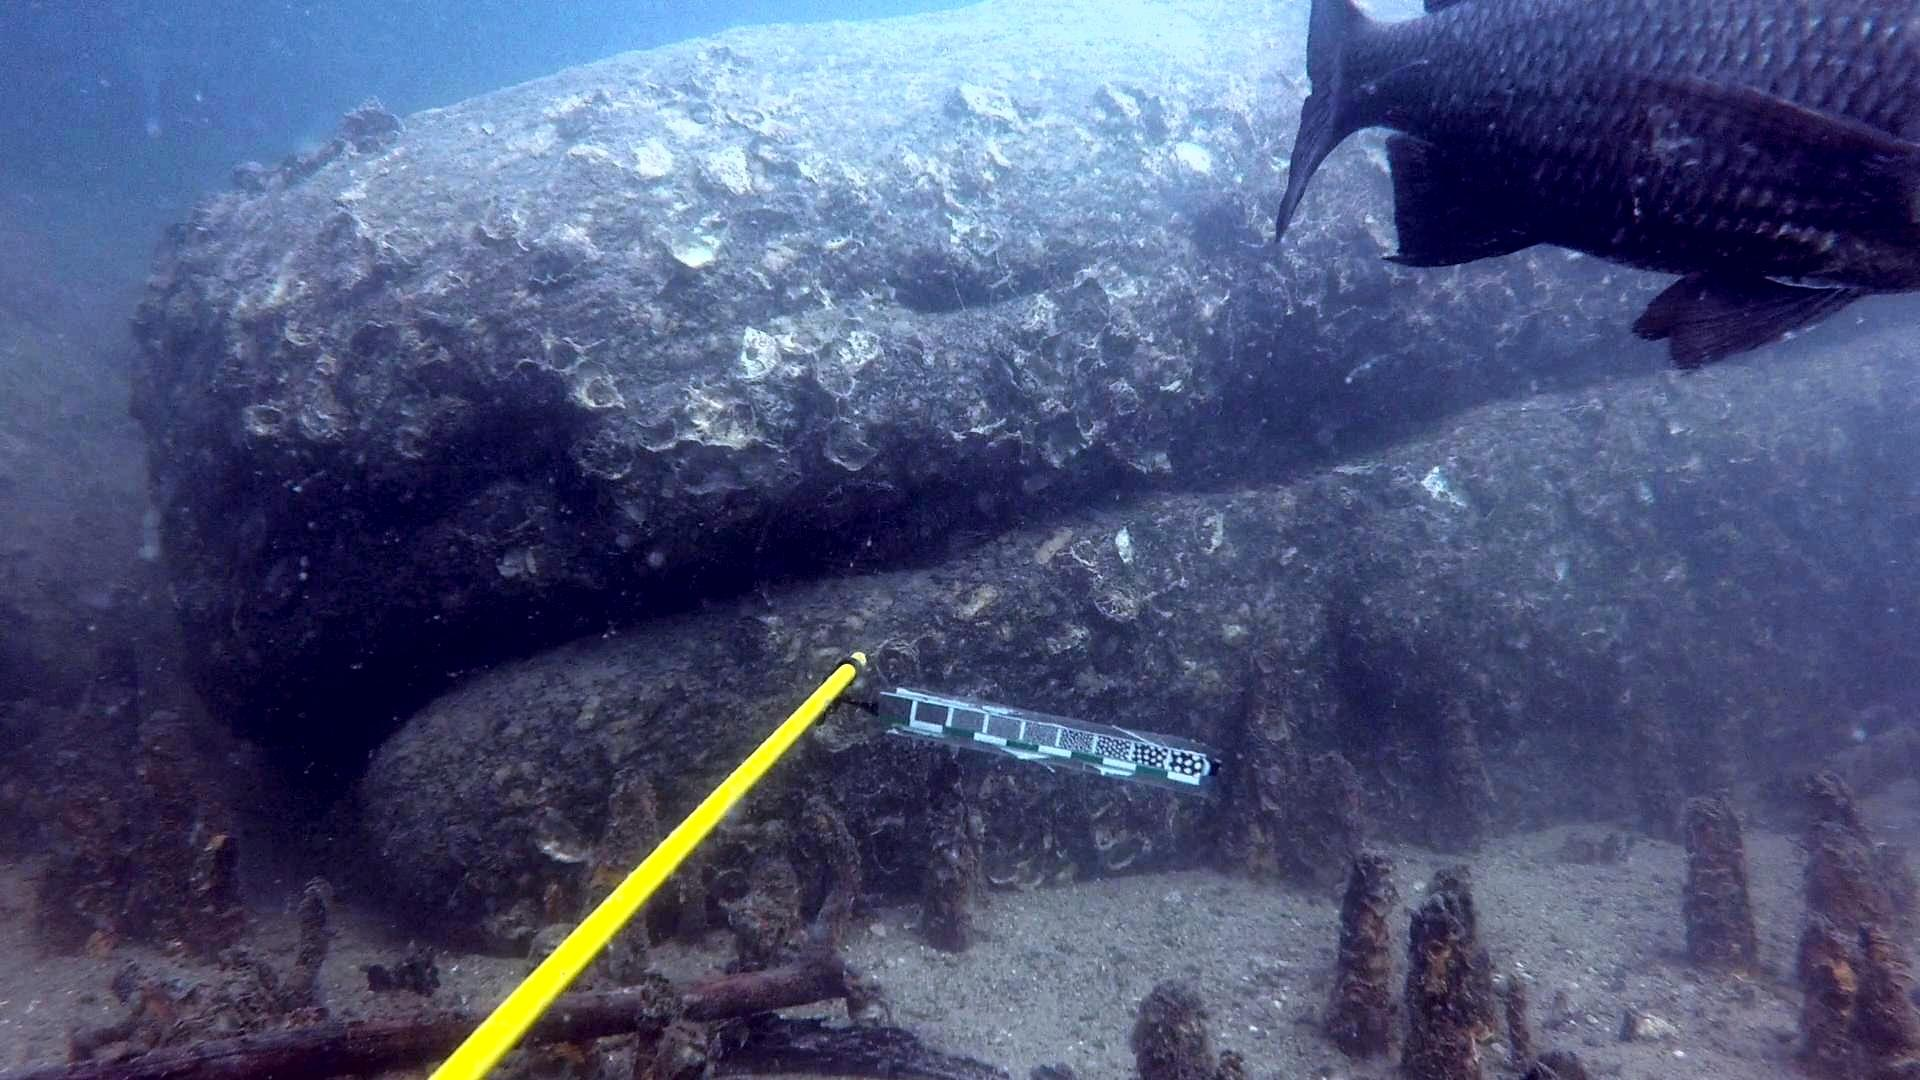acanthopagrus palmaris: (1260, 0, 1918, 377)
